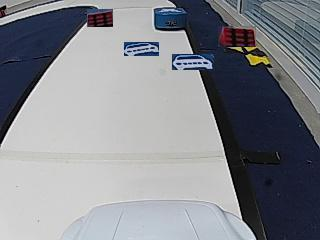prop: (154, 7, 188, 31)
